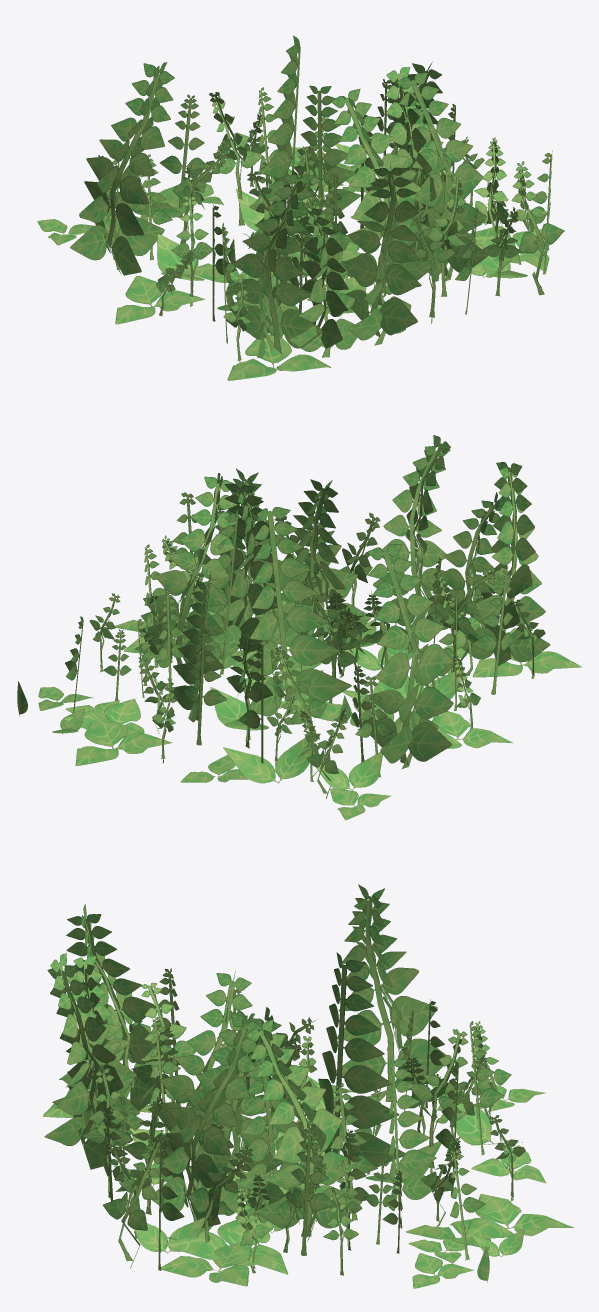
File: LeafSetB_20.fbx
The picture shows the model from 3 angles, top to bottom: view 1: azimuth 30°, elevation 25°; view 2: azimuth 150°, elevation 25°; view 3: azimuth 270°, elevation 25°; orthographic projection. The views are drawn at different scales.
Visible parts, largest first — view 1: LeafSetB_20; view 2: LeafSetB_20; view 3: LeafSetB_20.
Boxes of the visible parts, x1,y1,x2,y2 form: LeafSetB_20: [37, 35, 564, 380]; LeafSetB_20: [17, 435, 581, 820]; LeafSetB_20: [43, 884, 573, 1288].
Bounding box in the file's own units: 2.52 × 1.28 × 2.6.
